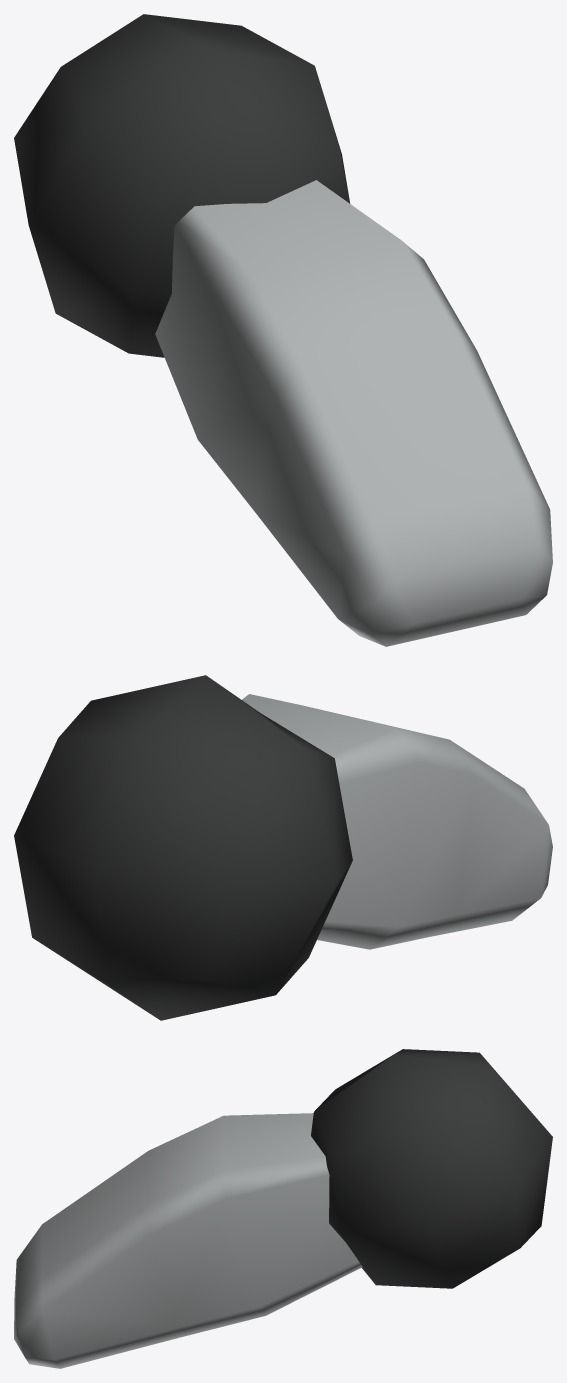
File: Drone_002_L_Finger_006.fbx
3 renders of one model, top to bottom at view 1: azimuth 30°, elevation 25°; view 2: azimuth 150°, elevation 25°; view 3: azimuth 270°, elevation 25°, orthographic. The views are drawn at different scales.
Parts seen in each view (by area): view 1: Drone_002_L_Finger_006; view 2: Drone_002_L_Finger_006; view 3: Drone_002_L_Finger_006.
Part boxes in pixels (box(x1,y1,x2,y2)): Drone_002_L_Finger_006: box(14, 14, 552, 646); Drone_002_L_Finger_006: box(14, 675, 552, 1020); Drone_002_L_Finger_006: box(14, 1049, 552, 1368).
Size of the model in its own units: 2.75 by 5.69 by 3.36.
